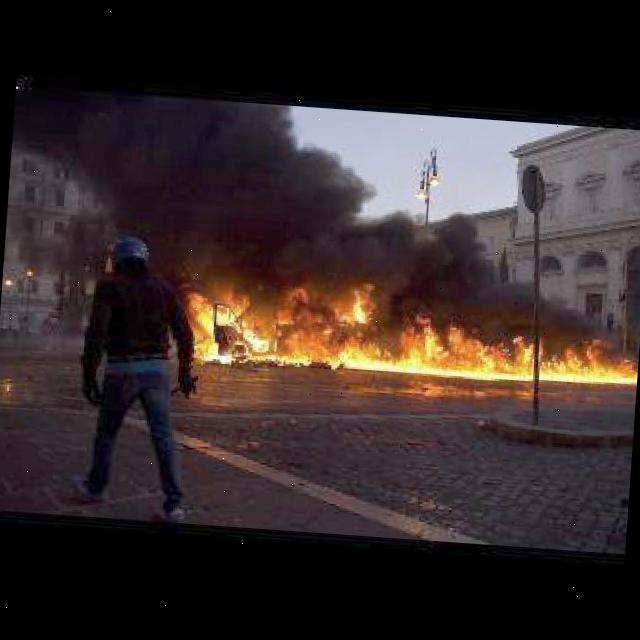fire: (131, 96, 610, 336), (169, 258, 640, 386)
